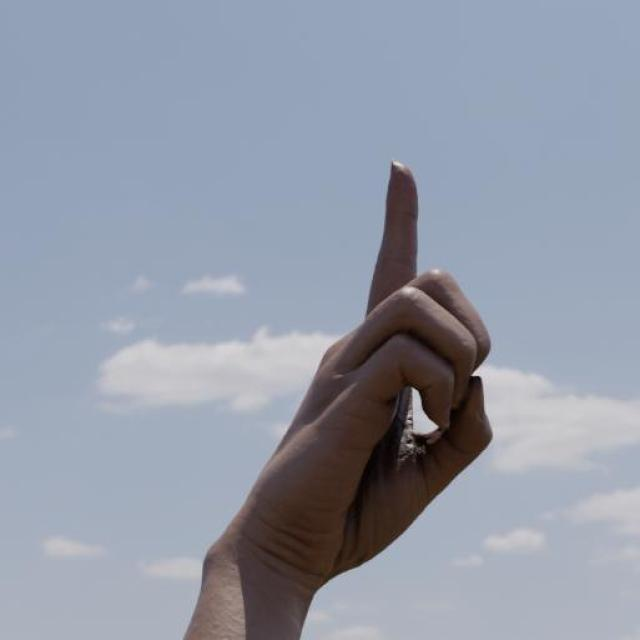D: (234, 157, 496, 591)
